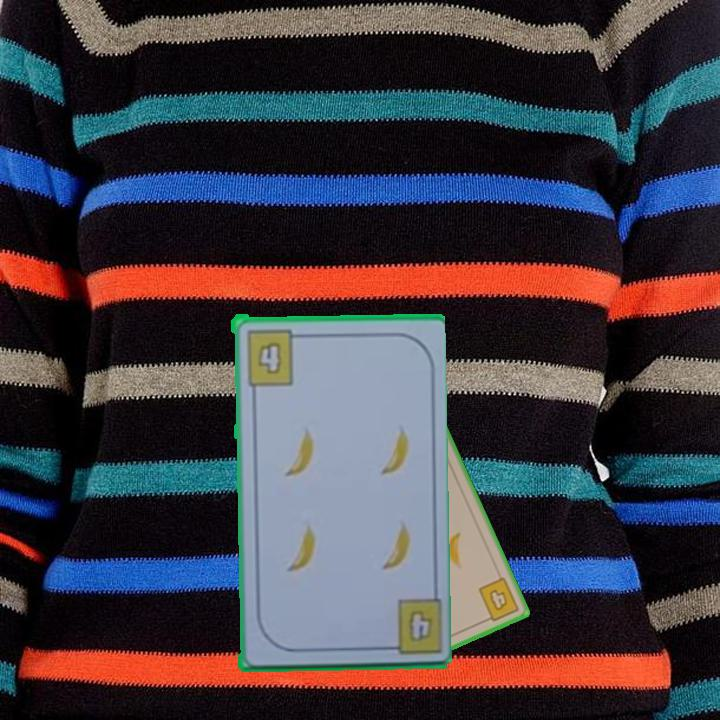4b: (377, 594, 442, 656), (242, 325, 304, 387), (475, 574, 522, 625)
